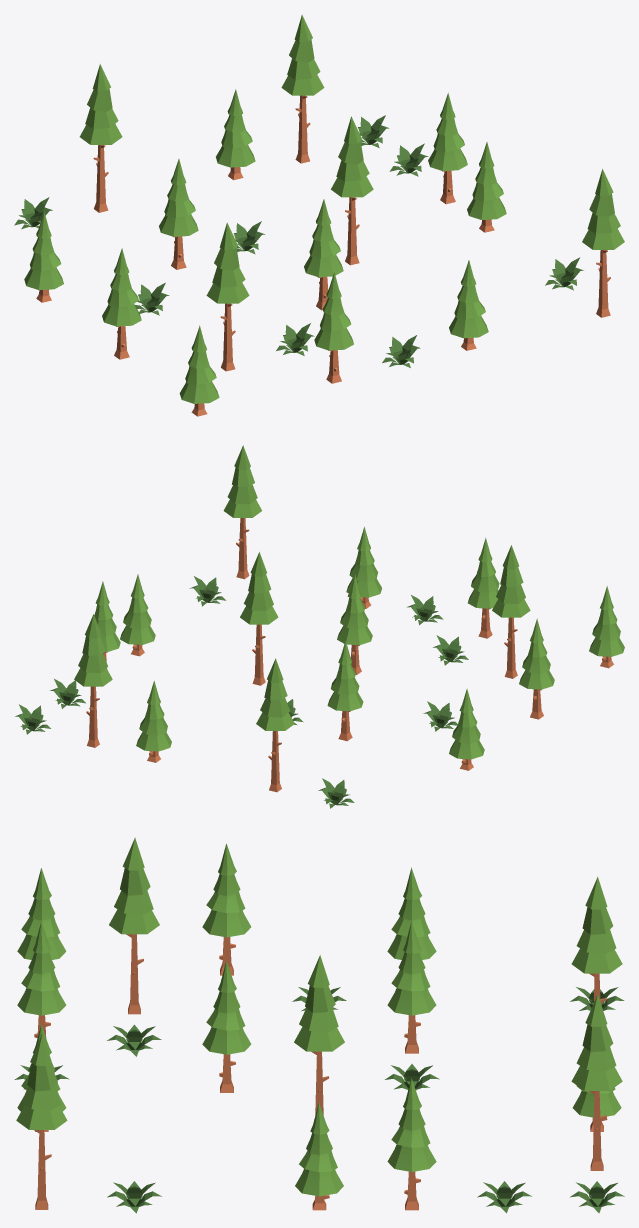
Rendered from foret.glb.
3 views of the same model, one above another, from view 1: azimuth 30°, elevation 25°; view 2: azimuth 150°, elevation 25°; view 3: azimuth 270°, elevation 25° (orthographic). The views are drawn at different scales.
Visible parts, largest first — view 1: mergedBlocks(Clone); view 2: mergedBlocks(Clone); view 3: mergedBlocks(Clone).
Part boxes in pixels (x1,y1,x2,y2): mergedBlocks(Clone): [14, 14, 624, 416]; mergedBlocks(Clone): [15, 445, 624, 808]; mergedBlocks(Clone): [14, 837, 624, 1213].
Size of the model in its own units: 6.57 by 2.08 by 6.6.
1 material, 1 textured.
